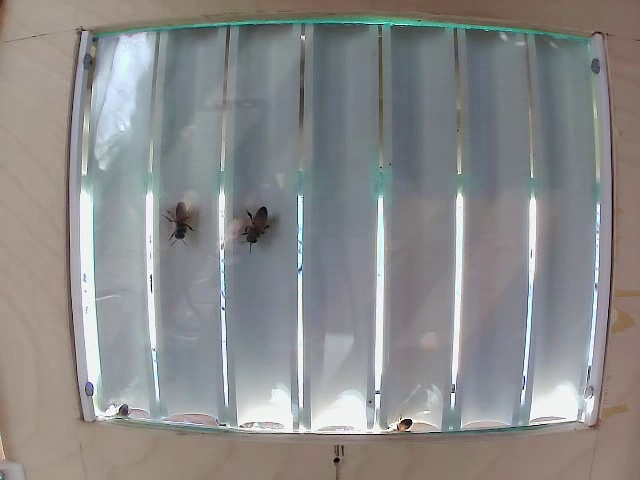bee: (235, 198, 279, 254), (168, 197, 193, 229)
